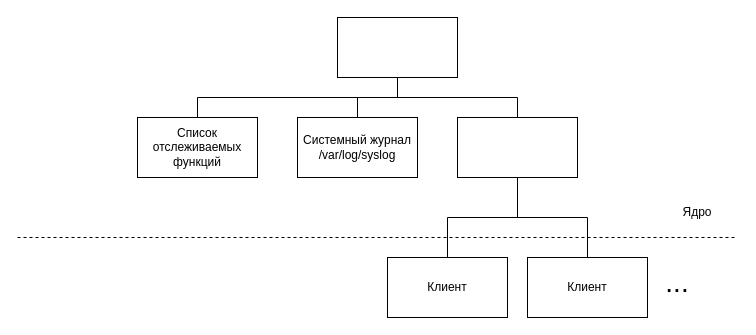
This 756x335 diagram has some shape labels left out. Here are the shapes that lost their labels. From the top down, the centre of each, then its label:
At [397,47]: "Перехватчик системных вызовов".
At [517,147]: "Сервер".
